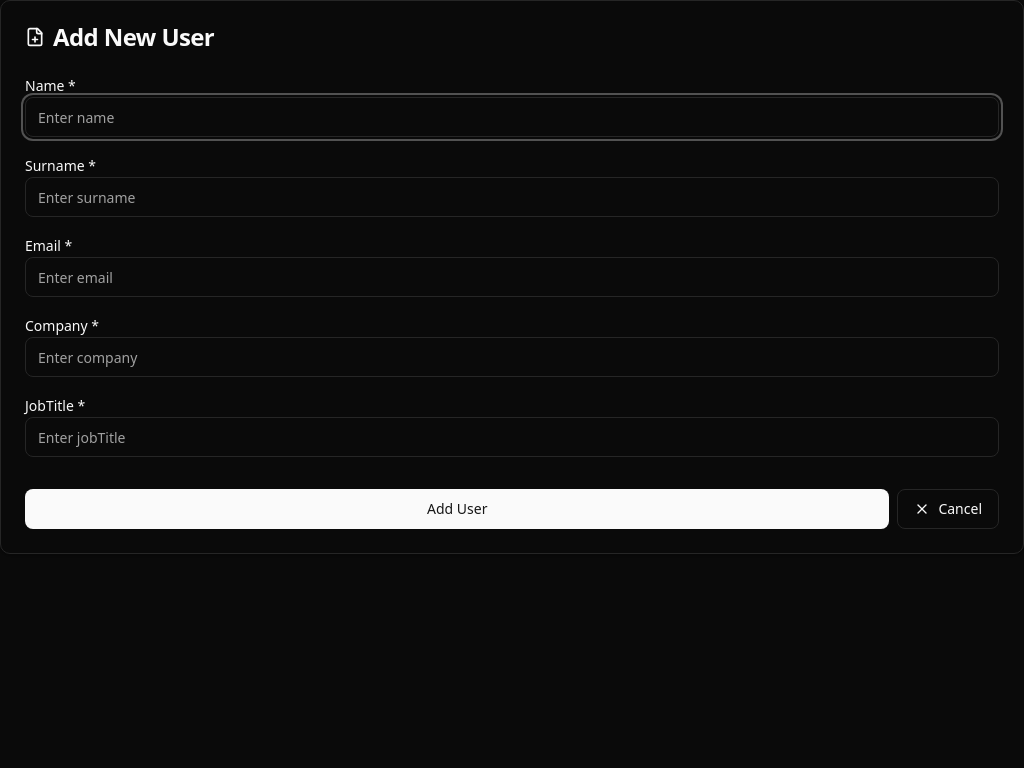
Test: UserForm › shows validation errors if fields are empty
The width and height of the screenshot is (1024, 768).
Step 1. Click the button "Add User" → [457, 509], box x1=25 y1=489 x2=889 y2=529
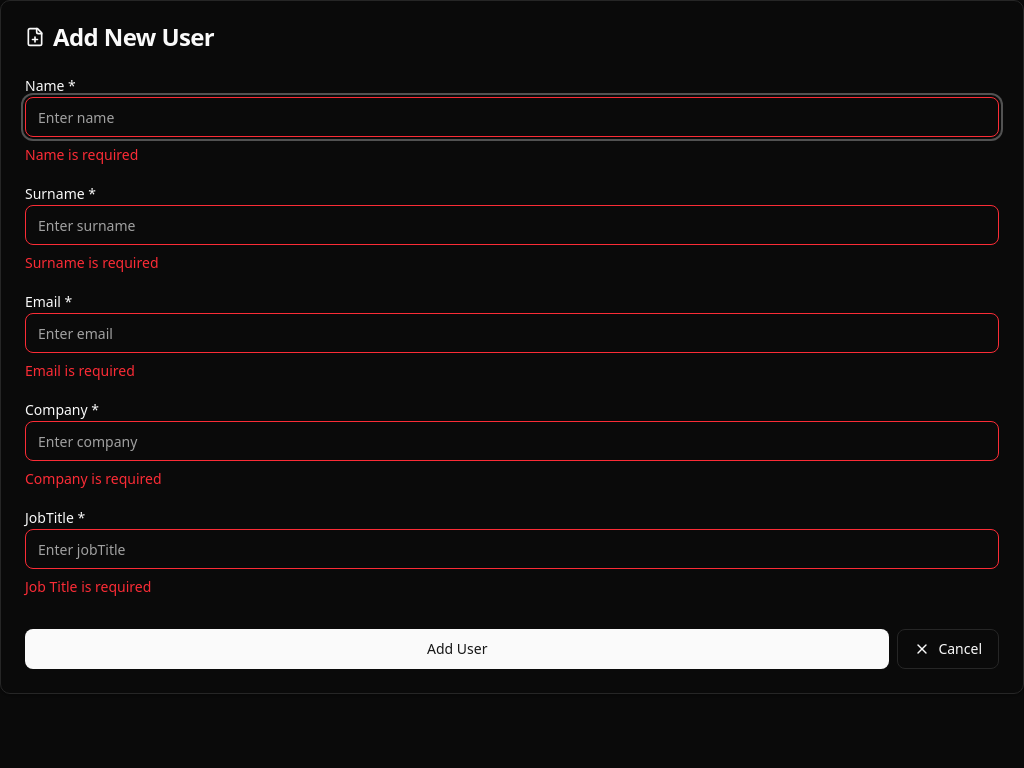
Result: the text "Name is required" is shown at x1=25 y1=145 x2=138 y2=164
Result: the text "Surname is required" is shown at x1=25 y1=253 x2=158 y2=272
Result: the text "Email is required" is shown at x1=25 y1=361 x2=135 y2=380
